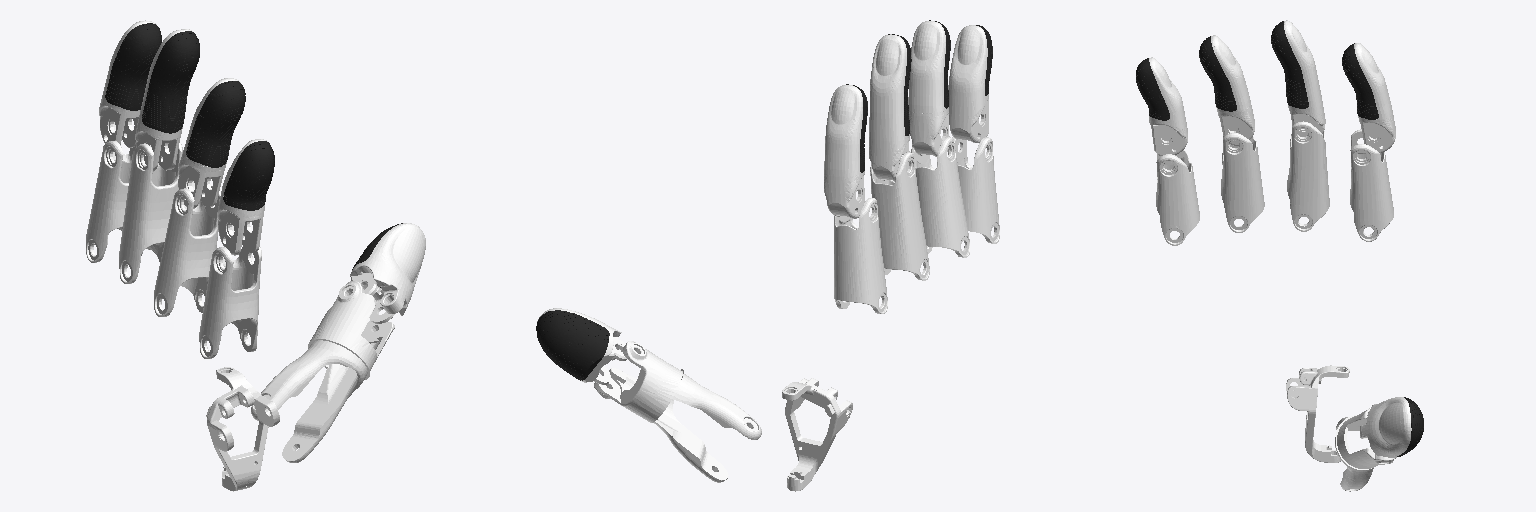
robot.urdf — DH116-R000-A1:
<?xml version="1.0" encoding="utf-8"?>
<!-- This URDF was automatically created by SolidWorks to URDF Exporter! Originally created by [author] ([email redacted]) 
     Commit Version: 1.6.0-4-g7f85cfe  Build Version: 1.6.7995.38578
     For more information, please see http://wiki.ros.org/sw_urdf_exporter -->
<robot
  name="DH116-R000-A1">
  <link
    name="base_link">
    <inertial>
      <origin
        xyz="-0.0052741 0.002479 0.057207"
        rpy="0 0 0" />
      <mass
        value="0.10866" />
      <inertia
        ixx="8.6558E-05"
        ixy="1.592E-07"
        ixz="2.7057E-06"
        iyy="5.5287E-05"
        iyz="-4.058E-07"
        izz="4.1066E-05" />
    </inertial>
    <visual>
      <origin
        xyz="0 0 0"
        rpy="0 0 0" />
      <geometry>
        <mesh
          filename="package://DH116-R000-A1/meshes/base_link.STL" />
      </geometry>
      <material
        name="">
        <color
          rgba="1 1 1 1" />
      </material>
    </visual>
    <collision>
      <origin
        xyz="0 0 0"
        rpy="0 0 0" />
      <geometry>
        <mesh
          filename="package://DH116-R000-A1/meshes/base_link.STL" />
      </geometry>
    </collision>
  </link>
  <link
    name="finger11_link">
    <inertial>
      <origin
        xyz="0.0078225 0.0020462 -0.0025622"
        rpy="0 0 0" />
      <mass
        value="0.010254" />
      <inertia
        ixx="7.2142E-07"
        ixy="-1.1025E-07"
        ixz="1.8578E-07"
        iyy="1.1141E-06"
        iyz="4.8596E-08"
        izz="1.144E-06" />
    </inertial>
    <visual>
      <origin
        xyz="0 0 0"
        rpy="0 0 0" />
      <geometry>
        <mesh
          filename="package://DH116-R000-A1/meshes/finger11_link.STL" />
      </geometry>
      <material
        name="">
        <color
          rgba="1 1 1 1" />
      </material>
    </visual>
    <collision>
      <origin
        xyz="0 0 0"
        rpy="0 0 0" />
      <geometry>
        <mesh
          filename="package://DH116-R000-A1/meshes/finger11_link.STL" />
      </geometry>
    </collision>
  </link>
  <joint
    name="finger11"
    type="revolute">
    <origin
      xyz="0.018 0.021747 0.043279"
      rpy="-0.087266 0 0" />
    <parent
      link="base_link" />
    <child
      link="finger11_link" />
    <axis
      xyz="0 0 -1" />
    <limit
      lower="-1.57"
      upper="1.57"
      effort="0"
      velocity="0" />
  </joint>
  <link
    name="finger12_link">
    <inertial>
      <origin
        xyz="0.0014182 -1.2893E-06 0.024329"
        rpy="0 0 0" />
      <mass
        value="0.010145" />
      <inertia
        ixx="2.4795E-06"
        ixy="2.3633E-11"
        ixz="-9.1895E-08"
        iyy="2.2943E-06"
        iyz="4.4162E-11"
        izz="8.8906E-07" />
    </inertial>
    <visual>
      <origin
        xyz="0 0 0"
        rpy="0 0 0" />
      <geometry>
        <mesh
          filename="package://DH116-R000-A1/meshes/finger12_link.STL" />
      </geometry>
      <material
        name="">
        <color
          rgba="1 1 1 1" />
      </material>
    </visual>
    <collision>
      <origin
        xyz="0 0 0"
        rpy="0 0 0" />
      <geometry>
        <mesh
          filename="package://DH116-R000-A1/meshes/finger12_link.STL" />
      </geometry>
    </collision>
  </link>
  <joint
    name="finger12"
    type="revolute">
    <origin
      xyz="0.018876 0.0049375 -0.0056093"
      rpy="0 0.95149 0.25585" />
    <parent
      link="finger11_link" />
    <child
      link="finger12_link" />
    <axis
      xyz="0 -1 0" />
    <limit
      lower="0"
      upper="1.57"
      effort="0"
      velocity="0" />
  </joint>
  <link
    name="finger13_link">
    <inertial>
      <origin
        xyz="0.0064864 -1.72E-06 0.014709"
        rpy="0 0 0" />
      <mass
        value="0.020548" />
      <inertia
        ixx="2.4642E-06"
        ixy="2.2654E-10"
        ixz="-1.276E-07"
        iyy="2.3555E-06"
        iyz="3.4328E-10"
        izz="8.7678E-07" />
    </inertial>
    <visual>
      <origin
        xyz="0 0 0"
        rpy="0 0 0" />
      <geometry>
        <mesh
          filename="package://DH116-R000-A1/meshes/finger13_link.STL" />
      </geometry>
      <material
        name="">
        <color
          rgba="1 1 1 1" />
      </material>
    </visual>
    <collision>
      <origin
        xyz="0 0 0"
        rpy="0 0 0" />
      <geometry>
        <mesh
          filename="package://DH116-R000-A1/meshes/finger13_link.STL" />
      </geometry>
    </collision>
  </link>
  <joint
    name="finger13"
    type="revolute">
    <origin
      xyz="0 0 0.045"
      rpy="0 0 0" />
    <parent
      link="finger12_link" />
    <child
      link="finger13_link" />
    <axis
      xyz="0 -1 0" />
    <limit
      lower="0"
      upper="1.57"
      effort="0"
      velocity="0" />
  </joint>
  <link
    name="finger14_link">
    <inertial>
      <origin
        xyz="0.0030983 8.624E-07 0.024752"
        rpy="0 0 0" />
      <mass
        value="0.00064654" />
      <inertia
        ixx="4.6206E-08"
        ixy="-1.7511E-11"
        ixz="-7.0078E-09"
        iyy="3.0972E-08"
        iyz="3.3703E-12"
        izz="3.328E-08" />
    </inertial>
    <visual>
      <origin
        xyz="0 0 0"
        rpy="0 0 0" />
      <geometry>
        <mesh
          filename="package://DH116-R000-A1/meshes/finger14_link.STL" />
      </geometry>
      <material
        name="">
        <color
          rgba="0.2 0.2 0.2 1" />
      </material>
    </visual>
    <collision>
      <origin
        xyz="0 0 0"
        rpy="0 0 0" />
      <geometry>
        <mesh
          filename="package://DH116-R000-A1/meshes/finger14_link.STL" />
      </geometry>
    </collision>
  </link>
  <joint
    name="finger14"
    type="fixed">
    <origin
      xyz="0 0 0"
      rpy="0 0 0" />
    <parent
      link="finger13_link" />
    <child
      link="finger14_link" />
    <axis
      xyz="0 0 0" />
    <limit
      lower="0"
      upper="1.57"
      effort="0"
      velocity="0" />
  </joint>
  <link
    name="finger21_link">
    <inertial>
      <origin
        xyz="-0.0017978 3.2789E-07 0.018686"
        rpy="0 0 0" />
      <mass
        value="0.0067143" />
      <inertia
        ixx="1.1951E-06"
        ixy="6.7451E-12"
        ixz="-4.4967E-09"
        iyy="1.0688E-06"
        iyz="-2.4168E-12"
        izz="3.7304E-07" />
    </inertial>
    <visual>
      <origin
        xyz="0 0 0"
        rpy="0 0 0" />
      <geometry>
        <mesh
          filename="package://DH116-R000-A1/meshes/finger21_link.STL" />
      </geometry>
      <material
        name="">
        <color
          rgba="1 1 1 1" />
      </material>
    </visual>
    <collision>
      <origin
        xyz="0 0 0"
        rpy="0 0 0" />
      <geometry>
        <mesh
          filename="package://DH116-R000-A1/meshes/finger21_link.STL" />
      </geometry>
    </collision>
  </link>
  <joint
    name="finger21"
    type="revolute">
    <origin
      xyz="-0.011581 0.031971 0.10003"
      rpy="-0.052657 0.10625 -0.0055894" />
    <parent
      link="base_link" />
    <child
      link="finger21_link" />
    <axis
      xyz="0 1 0" />
    <limit
      lower="0"
      upper="1.57"
      effort="0"
      velocity="0" />
  </joint>
  <link
    name="finger22_link">
    <inertial>
      <origin
        xyz="-0.0019337 7.2998E-07 0.02175"
        rpy="0 0 0" />
      <mass
        value="0.014789" />
      <inertia
        ixx="1.4665E-06"
        ixy="1.1416E-11"
        ixz="-1.6584E-07"
        iyy="1.4889E-06"
        iyz="-9.2753E-11"
        izz="3.5281E-07" />
    </inertial>
    <visual>
      <origin
        xyz="0 0 0"
        rpy="0 0 0" />
      <geometry>
        <mesh
          filename="package://DH116-R000-A1/meshes/finger22_link.STL" />
      </geometry>
      <material
        name="">
        <color
          rgba="1 1 1 1" />
      </material>
    </visual>
    <collision>
      <origin
        xyz="0 0 0"
        rpy="0 0 0" />
      <geometry>
        <mesh
          filename="package://DH116-R000-A1/meshes/finger22_link.STL" />
      </geometry>
    </collision>
  </link>
  <joint
    name="finger22"
    type="revolute">
    <origin
      xyz="0 0 0.035"
      rpy="0 0 0" />
    <parent
      link="finger21_link" />
    <child
      link="finger22_link" />
    <axis
      xyz="0 1 0" />
    <limit
      lower="0"
      upper="1.57"
      effort="0"
      velocity="0" />
  </joint>
  <link
    name="finger23_link">
    <inertial>
      <origin
        xyz="0.0027534 -5.1038E-07 0.027456"
        rpy="0 0 0" />
      <mass
        value="0.00083419" />
      <inertia
        ixx="1.0852E-07"
        ixy="-2.4081E-13"
        ixz="-9.2843E-09"
        iyy="9.6252E-08"
        iyz="-2.9524E-12"
        izz="2.404E-08" />
    </inertial>
    <visual>
      <origin
        xyz="0 0 0"
        rpy="0 0 0" />
      <geometry>
        <mesh
          filename="package://DH116-R000-A1/meshes/finger23_link.STL" />
      </geometry>
      <material
        name="">
        <color
          rgba="0.2 0.2 0.2 1" />
      </material>
    </visual>
    <collision>
      <origin
        xyz="0 0 0"
        rpy="0 0 0" />
      <geometry>
        <mesh
          filename="package://DH116-R000-A1/meshes/finger23_link.STL" />
      </geometry>
    </collision>
  </link>
  <joint
    name="finger23"
    type="fixed">
    <origin
      xyz="0 0 0"
      rpy="0 0 0" />
    <parent
      link="finger22_link" />
    <child
      link="finger23_link" />
    <axis
      xyz="0 0 0" />
    <limit
      lower="0"
      upper="1.57"
      effort="0"
      velocity="0" />
  </joint>
  <link
    name="finger31_link">
    <inertial>
      <origin
        xyz="-0.0017978 3.3269E-07 0.018686"
        rpy="0 0 0" />
      <mass
        value="0.0067141" />
      <inertia
        ixx="1.1951E-06"
        ixy="1.1431E-11"
        ixz="-4.4917E-09"
        iyy="1.0688E-06"
        iyz="8.2241E-12"
        izz="3.7303E-07" />
    </inertial>
    <visual>
      <origin
        xyz="0 0 0"
        rpy="0 0 0" />
      <geometry>
        <mesh
          filename="package://DH116-R000-A1/meshes/finger31_link.STL" />
      </geometry>
      <material
        name="">
        <color
          rgba="1 1 1 1" />
      </material>
    </visual>
    <collision>
      <origin
        xyz="0 0 0"
        rpy="0 0 0" />
      <geometry>
        <mesh
          filename="package://DH116-R000-A1/meshes/finger31_link.STL" />
      </geometry>
    </collision>
  </link>
  <joint
    name="finger31"
    type="revolute">
    <origin
      xyz="-0.013501 0.0105 0.10286"
      rpy="0 0.10214 0" />
    <parent
      link="base_link" />
    <child
      link="finger31_link" />
    <axis
      xyz="0 1 0" />
    <limit
      lower="0"
      upper="1.57"
      effort="0"
      velocity="0" />
  </joint>
  <link
    name="finger32_link">
    <inertial>
      <origin
        xyz="-0.0021242 6.6141E-08 0.024943"
        rpy="0 0 0" />
      <mass
        value="0.017444" />
      <inertia
        ixx="4.1711E-06"
        ixy="1.8194E-11"
        ixz="-2.6488E-07"
        iyy="4.1927E-06"
        iyz="-1.6389E-11"
        izz="4.4322E-07" />
    </inertial>
    <visual>
      <origin
        xyz="0 0 0"
        rpy="0 0 0" />
      <geometry>
        <mesh
          filename="package://DH116-R000-A1/meshes/finger32_link.STL" />
      </geometry>
      <material
        name="">
        <color
          rgba="1 1 1 1" />
      </material>
    </visual>
    <collision>
      <origin
        xyz="0 0 0"
        rpy="0 0 0" />
      <geometry>
        <mesh
          filename="package://DH116-R000-A1/meshes/finger32_link.STL" />
      </geometry>
    </collision>
  </link>
  <joint
    name="finger32"
    type="revolute">
    <origin
      xyz="0 0 0.035"
      rpy="0 0 0" />
    <parent
      link="finger31_link" />
    <child
      link="finger32_link" />
    <axis
      xyz="0 1 0" />
    <limit
      lower="0"
      upper="1.57"
      effort="0"
      velocity="0" />
  </joint>
  <link
    name="finger33_link">
    <inertial>
      <origin
        xyz="0.0025776 -4.8031E-07 0.03447"
        rpy="0 0 0" />
      <mass
        value="0.00083416" />
      <inertia
        ixx="1.0861E-07"
        ixy="1.3942E-12"
        ixz="-8.8309E-09"
        iyy="9.6246E-08"
        iyz="-5.9916E-13"
        izz="2.3939E-08" />
    </inertial>
    <visual>
      <origin
        xyz="0 0 0"
        rpy="0 0 0" />
      <geometry>
        <mesh
          filename="package://DH116-R000-A1/meshes/finger33_link.STL" />
      </geometry>
      <material
        name="">
        <color
          rgba="0.2 0.2 0.2 1" />
      </material>
    </visual>
    <collision>
      <origin
        xyz="0 0 0"
        rpy="0 0 0" />
      <geometry>
        <mesh
          filename="package://DH116-R000-A1/meshes/finger33_link.STL" />
      </geometry>
    </collision>
  </link>
  <joint
    name="finger33"
    type="fixed">
    <origin
      xyz="0 0 0"
      rpy="0 0 0" />
    <parent
      link="finger32_link" />
    <child
      link="finger33_link" />
    <axis
      xyz="0 0 0" />
    <limit
      lower="0"
      upper="1.57"
      effort="0"
      velocity="0" />
  </joint>
  <link
    name="finger41_link">
    <inertial>
      <origin
        xyz="-0.0017978 2.8835E-07 0.018686"
        rpy="0 0 0" />
      <mass
        value="0.006714" />
      <inertia
        ixx="1.1951E-06"
        ixy="1.5194E-11"
        ixz="-4.4902E-09"
        iyy="1.0688E-06"
        iyz="1.057E-11"
        izz="3.7303E-07" />
    </inertial>
    <visual>
      <origin
        xyz="0 0 0"
        rpy="0 0 0" />
      <geometry>
        <mesh
          filename="package://DH116-R000-A1/meshes/finger41_link.STL" />
      </geometry>
      <material
        name="">
        <color
          rgba="1 1 1 1" />
      </material>
    </visual>
    <collision>
      <origin
        xyz="0 0 0"
        rpy="0 0 0" />
      <geometry>
        <mesh
          filename="package://DH116-R000-A1/meshes/finger41_link.STL" />
      </geometry>
    </collision>
  </link>
  <joint
    name="finger41"
    type="revolute">
    <origin
      xyz="-0.015081 -0.010971 0.10183"
      rpy="0.052889 0.14148 0.0074648" />
    <parent
      link="base_link" />
    <child
      link="finger41_link" />
    <axis
      xyz="0 1 0" />
    <limit
      lower="0"
      upper="1.57"
      effort="0"
      velocity="0" />
  </joint>
  <link
    name="finger42_link">
    <inertial>
      <origin
        xyz="-0.00099481 6.0006E-07 0.021813"
        rpy="0 0 0" />
      <mass
        value="0.014788" />
      <inertia
        ixx="1.4501E-06"
        ixy="2.324E-11"
        ixz="-2.1315E-07"
        iyy="1.4888E-06"
        iyz="-8.582E-11"
        izz="3.6915E-07" />
    </inertial>
    <visual>
      <origin
        xyz="0 0 0"
        rpy="0 0 0" />
      <geometry>
        <mesh
          filename="package://DH116-R000-A1/meshes/finger42_link.STL" />
      </geometry>
      <material
        name="">
        <color
          rgba="1 1 1 1" />
      </material>
    </visual>
    <collision>
      <origin
        xyz="0 0 0"
        rpy="0 0 0" />
      <geometry>
        <mesh
          filename="package://DH116-R000-A1/meshes/finger42_link.STL" />
      </geometry>
    </collision>
  </link>
  <joint
    name="finger42"
    type="revolute">
    <origin
      xyz="0 0 0.035"
      rpy="0 0 0" />
    <parent
      link="finger41_link" />
    <child
      link="finger42_link" />
    <axis
      xyz="0 1 0" />
    <limit
      lower="0"
      upper="1.57"
      effort="0"
      velocity="0" />
  </joint>
  <link
    name="finger43_link">
    <inertial>
      <origin
        xyz="0.0039336 -3.2576E-07 0.027311"
        rpy="0 0 0" />
      <mass
        value="0.0008342" />
      <inertia
        ixx="1.0756E-07"
        ixy="5.2726E-13"
        ixz="-1.2886E-08"
        iyy="9.6251E-08"
        iyz="-6.5627E-13"
        izz="2.4997E-08" />
    </inertial>
    <visual>
      <origin
        xyz="0 0 0"
        rpy="0 0 0" />
      <geometry>
        <mesh
          filename="package://DH116-R000-A1/meshes/finger43_link.STL" />
      </geometry>
      <material
        name="">
        <color
          rgba="0.2 0.2 0.2 1" />
      </material>
    </visual>
    <collision>
      <origin
        xyz="0 0 0"
        rpy="0 0 0" />
      <geometry>
        <mesh
          filename="package://DH116-R000-A1/meshes/finger43_link.STL" />
      </geometry>
    </collision>
  </link>
  <joint
    name="finger43"
    type="fixed">
    <origin
      xyz="0 0 0"
      rpy="0 0 0" />
    <parent
      link="finger42_link" />
    <child
      link="finger43_link" />
    <axis
      xyz="0 0 0" />
    <limit
      lower="0"
      upper="1.57"
      effort="0"
      velocity="0" />
  </joint>
  <link
    name="finger51_link">
    <inertial>
      <origin
        xyz="-0.0017978 4.0336E-07 0.018686"
        rpy="0 0 0" />
      <mass
        value="0.0067142" />
      <inertia
        ixx="1.1951E-06"
        ixy="9.6674E-12"
        ixz="-4.4947E-09"
        iyy="1.0688E-06"
        iyz="3.902E-12"
        izz="3.7303E-07" />
    </inertial>
    <visual>
      <origin
        xyz="0 0 0"
        rpy="0 0 0" />
      <geometry>
        <mesh
          filename="package://DH116-R000-A1/meshes/finger51_link.STL" />
      </geometry>
      <material
        name="">
        <color
          rgba="1 1 1 1" />
      </material>
    </visual>
    <collision>
      <origin
        xyz="0 0 0"
        rpy="0 0 0" />
      <geometry>
        <mesh
          filename="package://DH116-R000-A1/meshes/finger51_link.STL" />
      </geometry>
    </collision>
  </link>
  <joint
    name="finger51"
    type="revolute">
    <origin
      xyz="-0.013081 -0.032156 0.097798"
      rpy="0.078754 0.073706 0.0058113" />
    <parent
      link="base_link" />
    <child
      link="finger51_link" />
    <axis
      xyz="0 1 0" />
    <limit
      lower="0"
      upper="1.57"
      effort="0"
      velocity="0" />
  </joint>
  <link
    name="finger52_link">
    <inertial>
      <origin
        xyz="-0.0024432 3.1795E-07 0.016659"
        rpy="0 0 0" />
      <mass
        value="0.010445" />
      <inertia
        ixx="1.336E-06"
        ixy="2.6011E-11"
        ixz="-1.1818E-07"
        iyy="1.3478E-06"
        iyz="-5.5233E-12"
        izz="2.4659E-07" />
    </inertial>
    <visual>
      <origin
        xyz="0 0 0"
        rpy="0 0 0" />
      <geometry>
        <mesh
          filename="package://DH116-R000-A1/meshes/finger52_link.STL" />
      </geometry>
      <material
        name="">
        <color
          rgba="1 1 1 1" />
      </material>
    </visual>
    <collision>
      <origin
        xyz="0 0 0"
        rpy="0 0 0" />
      <geometry>
        <mesh
          filename="package://DH116-R000-A1/meshes/finger52_link.STL" />
      </geometry>
    </collision>
  </link>
  <joint
    name="finger52"
    type="revolute">
    <origin
      xyz="0 0 0.035"
      rpy="0 0 0" />
    <parent
      link="finger51_link" />
    <child
      link="finger52_link" />
    <axis
      xyz="0 1 0" />
    <limit
      lower="0"
      upper="1.57"
      effort="0"
      velocity="0" />
  </joint>
  <link
    name="finger53_link">
    <inertial>
      <origin
        xyz="0.0021833 1.5926E-06 0.02278"
        rpy="0 0 0" />
      <mass
        value="0.00059177" />
      <inertia
        ixx="4.5328E-08"
        ixy="2.1034E-12"
        ixz="-3.5665E-09"
        iyy="3.6598E-08"
        iyz="-2.539E-12"
        izz="1.5894E-08" />
    </inertial>
    <visual>
      <origin
        xyz="0 0 0"
        rpy="0 0 0" />
      <geometry>
        <mesh
          filename="package://DH116-R000-A1/meshes/finger53_link.STL" />
      </geometry>
      <material
        name="">
        <color
          rgba="0.2 0.2 0.2 1" />
      </material>
    </visual>
    <collision>
      <origin
        xyz="0 0 0"
        rpy="0 0 0" />
      <geometry>
        <mesh
          filename="package://DH116-R000-A1/meshes/finger53_link.STL" />
      </geometry>
    </collision>
  </link>
  <joint
    name="finger53"
    type="fixed">
    <origin
      xyz="0 0 0"
      rpy="0 0 0" />
    <parent
      link="finger52_link" />
    <child
      link="finger53_link" />
    <axis
      xyz="0 0 0" />
    <limit
      lower="0"
      upper="1.57"
      effort="0"
      velocity="0" />
  </joint>
</robot>

--- Render facts (derived) ---
3 views of the same robot in one strip: view 1: azimuth 30°, elevation 25°; view 2: azimuth 150°, elevation 25°; view 3: azimuth 270°, elevation 25° (orthographic).
Model DH116-R000-A1 with 17 links and 16 joints (11 revolute, 5 fixed), rooted at base_link, posed every joint at zero.
Visible links, largest first — view 1: finger12_link, finger41_link, finger31_link, finger51_link, finger13_link, finger11_link, finger33_link, finger21_link, finger43_link, finger23_link, finger53_link, finger52_link (+3 smaller); view 2: finger12_link, finger32_link, finger31_link, finger21_link, finger22_link, finger42_link, finger41_link, finger52_link, finger14_link, finger11_link, finger51_link, finger13_link; view 3: finger31_link, finger21_link, finger41_link, finger51_link, finger13_link, finger11_link, finger22_link, finger52_link, finger42_link, finger12_link, finger32_link, finger33_link (+4 smaller).
Boxes of the visible links, x1=… form: finger12_link: x1=251, y1=281, x2=394, y2=462; finger41_link: x1=154, y1=186, x2=220, y2=316; finger31_link: x1=119, y1=143, x2=182, y2=283; finger51_link: x1=199, y1=246, x2=261, y2=358; finger13_link: x1=350, y1=223, x2=425, y2=323; finger11_link: x1=206, y1=367, x2=279, y2=491; finger33_link: x1=142, y1=31, x2=199, y2=133; finger21_link: x1=86, y1=141, x2=142, y2=262; finger43_link: x1=186, y1=81, x2=245, y2=167; finger23_link: x1=105, y1=23, x2=161, y2=110; finger53_link: x1=223, y1=141, x2=274, y2=210; finger52_link: x1=217, y1=139, x2=267, y2=255; finger12_link: x1=594, y1=341, x2=761, y2=482; finger32_link: x1=869, y1=34, x2=909, y2=181; finger31_link: x1=870, y1=152, x2=929, y2=280; finger21_link: x1=834, y1=198, x2=887, y2=313; finger22_link: x1=824, y1=85, x2=864, y2=218; finger42_link: x1=908, y1=21, x2=949, y2=156; finger41_link: x1=911, y1=137, x2=969, y2=257; finger52_link: x1=948, y1=25, x2=988, y2=142; finger14_link: x1=536, y1=310, x2=609, y2=380; finger11_link: x1=782, y1=378, x2=852, y2=491; finger51_link: x1=948, y1=137, x2=999, y2=243; finger13_link: x1=537, y1=308, x2=626, y2=384; finger31_link: x1=1287, y1=121, x2=1329, y2=231; finger21_link: x1=1350, y1=129, x2=1393, y2=241; finger41_link: x1=1221, y1=133, x2=1264, y2=232; finger51_link: x1=1156, y1=148, x2=1199, y2=245; finger13_link: x1=1360, y1=397, x2=1411, y2=457; finger11_link: x1=1286, y1=365, x2=1349, y2=462; finger22_link: x1=1354, y1=43, x2=1395, y2=152; finger52_link: x1=1149, y1=57, x2=1187, y2=155; finger42_link: x1=1211, y1=35, x2=1254, y2=145; finger12_link: x1=1335, y1=404, x2=1395, y2=491; finger32_link: x1=1284, y1=20, x2=1325, y2=136; finger33_link: x1=1271, y1=21, x2=1308, y2=108.
Bounding box of the posed robot: 0.1158 × 0.0953 × 0.1488 m (x, y, z).
Meshes: 17 distinct files referenced, 16 mesh visuals loaded (16 binary STL); not drawn: 1 (reference not matched to a file when rendering).